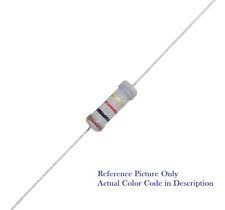resistor: (86, 74, 142, 140)
